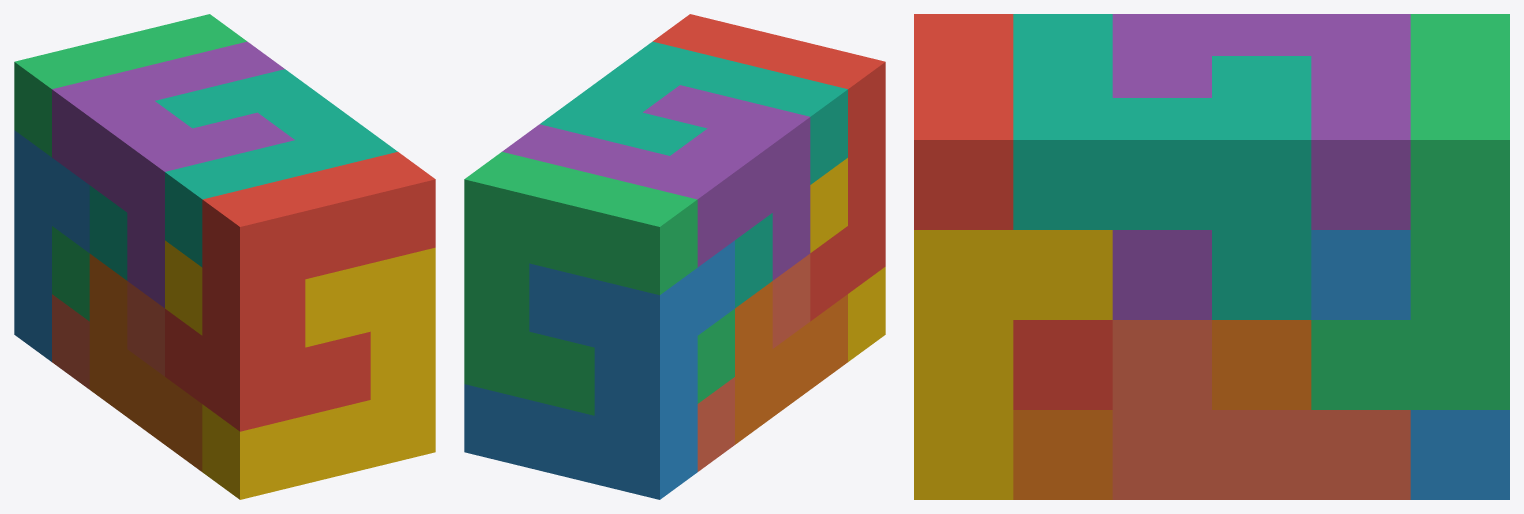
The model's file is tiling.obj.
The picture shows the model from 3 angles, left to right: view 1: azimuth 30°, elevation 25°; view 2: azimuth 150°, elevation 25°; view 3: azimuth 270°, elevation 25°; orthographic projection. The views are drawn at different scales.
Parts seen in each view (by area): view 1: copy_1, copy_4, copy_5, copy_7, copy_3, copy_6, copy_2, copy_8; view 2: copy_3, copy_2, copy_5, copy_7, copy_1, copy_6, copy_8, copy_4; view 3: copy_7, copy_3, copy_5, copy_4, copy_8, copy_1, copy_2, copy_6.
Part boxes in pixels (x1,y1,x2,y2): copy_1: (165, 152, 435, 431); copy_4: (165, 240, 435, 499); copy_5: (52, 41, 294, 308); copy_7: (89, 69, 397, 280); copy_3: (14, 14, 246, 321); copy_6: (89, 254, 202, 471); copy_2: (14, 130, 89, 361); copy_8: (52, 281, 164, 389); copy_3: (464, 152, 734, 415); copy_2: (464, 240, 734, 499); copy_5: (502, 85, 810, 280); copy_7: (540, 41, 847, 308); copy_1: (653, 14, 885, 321); copy_6: (735, 281, 847, 444); copy_8: (697, 254, 810, 471); copy_4: (810, 158, 885, 361); copy_7: (1013, 14, 1311, 319); copy_3: (1311, 14, 1509, 409); copy_5: (1112, 14, 1410, 319); copy_4: (914, 230, 1112, 499); copy_8: (1112, 320, 1410, 499); copy_1: (914, 14, 1112, 409); copy_2: (1311, 230, 1509, 499); copy_6: (1013, 320, 1311, 499).
Bounding box in the file's own units: 3 × 4 × 6.
